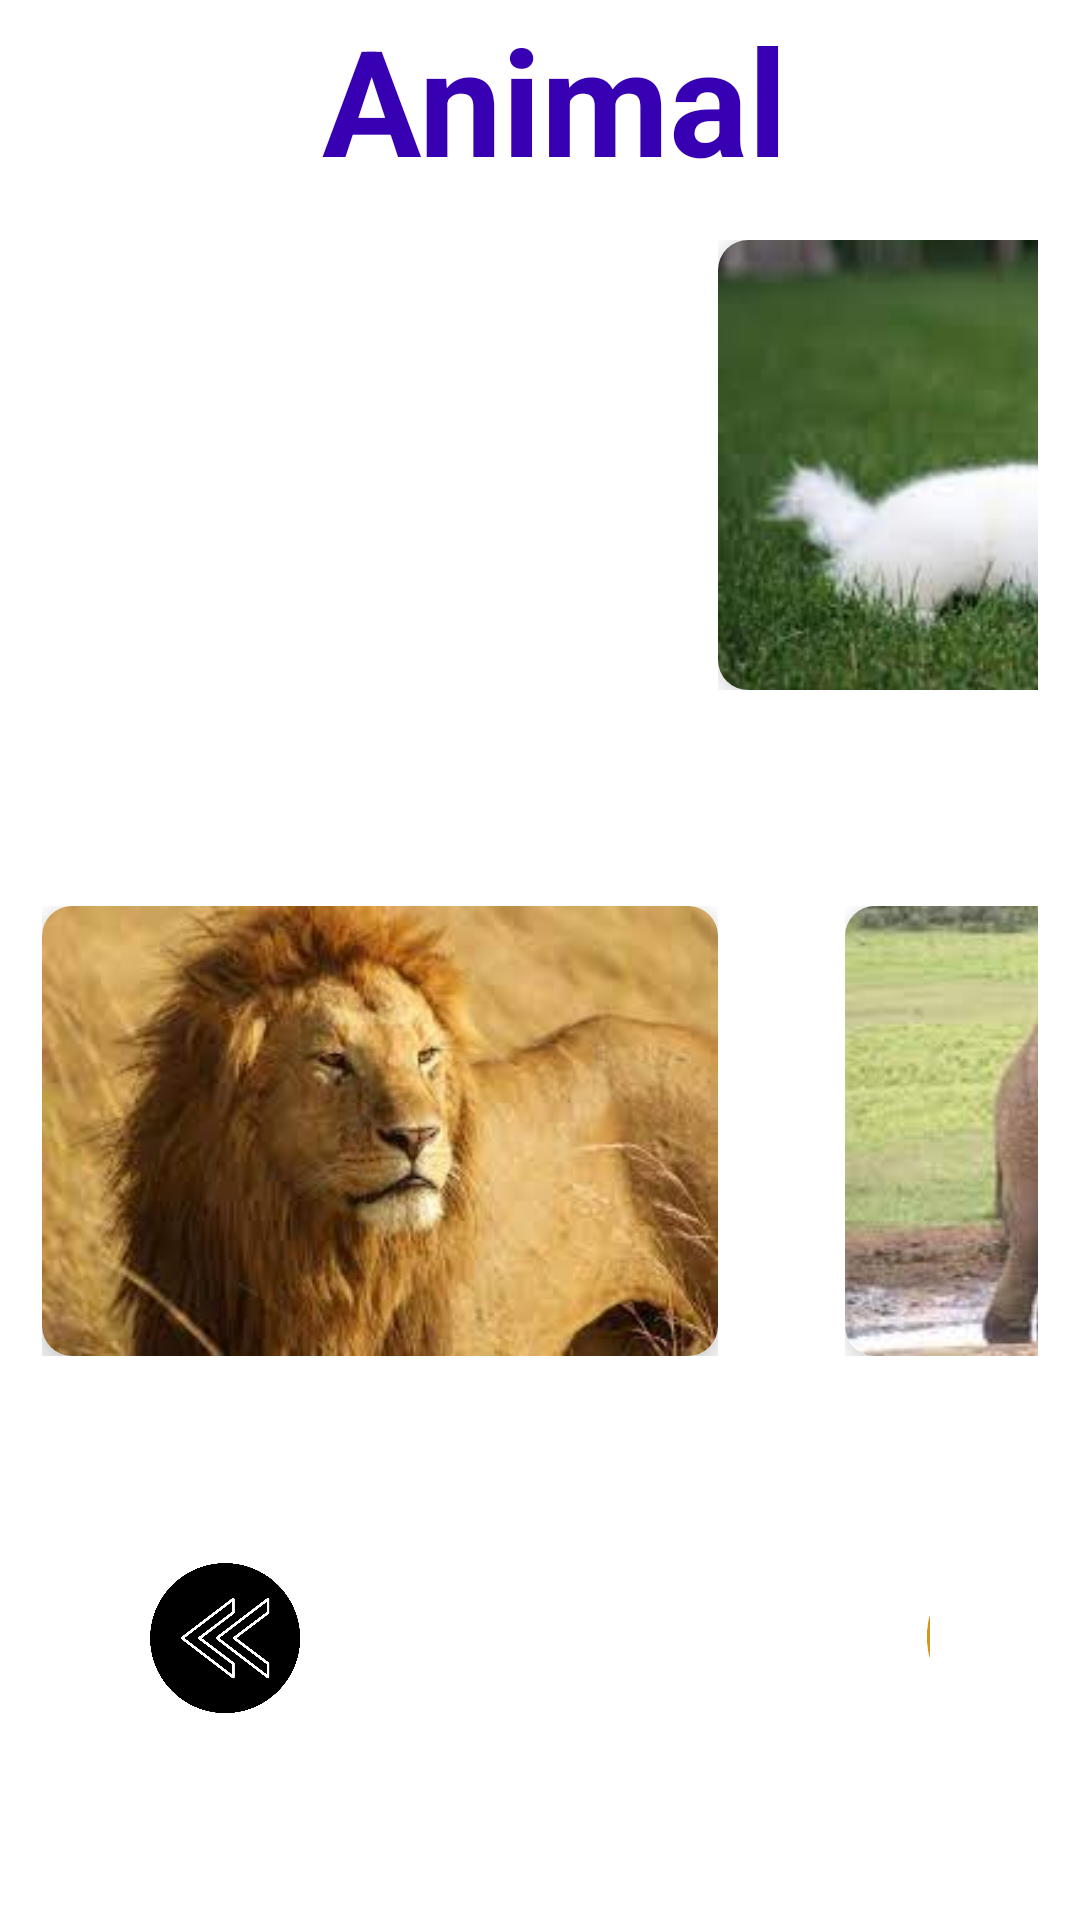

Icon bounding boxes for this 1080px×1920px phone screenshot, format (x1,y1,x2,y2):
prev: (150,1563,300,1713)
